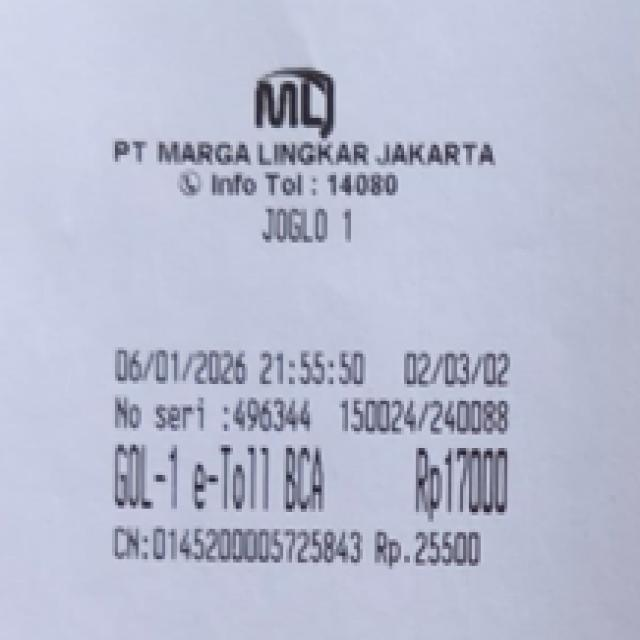date: (93, 346, 370, 388)
store: (88, 61, 544, 176)
total: (388, 442, 518, 520)
